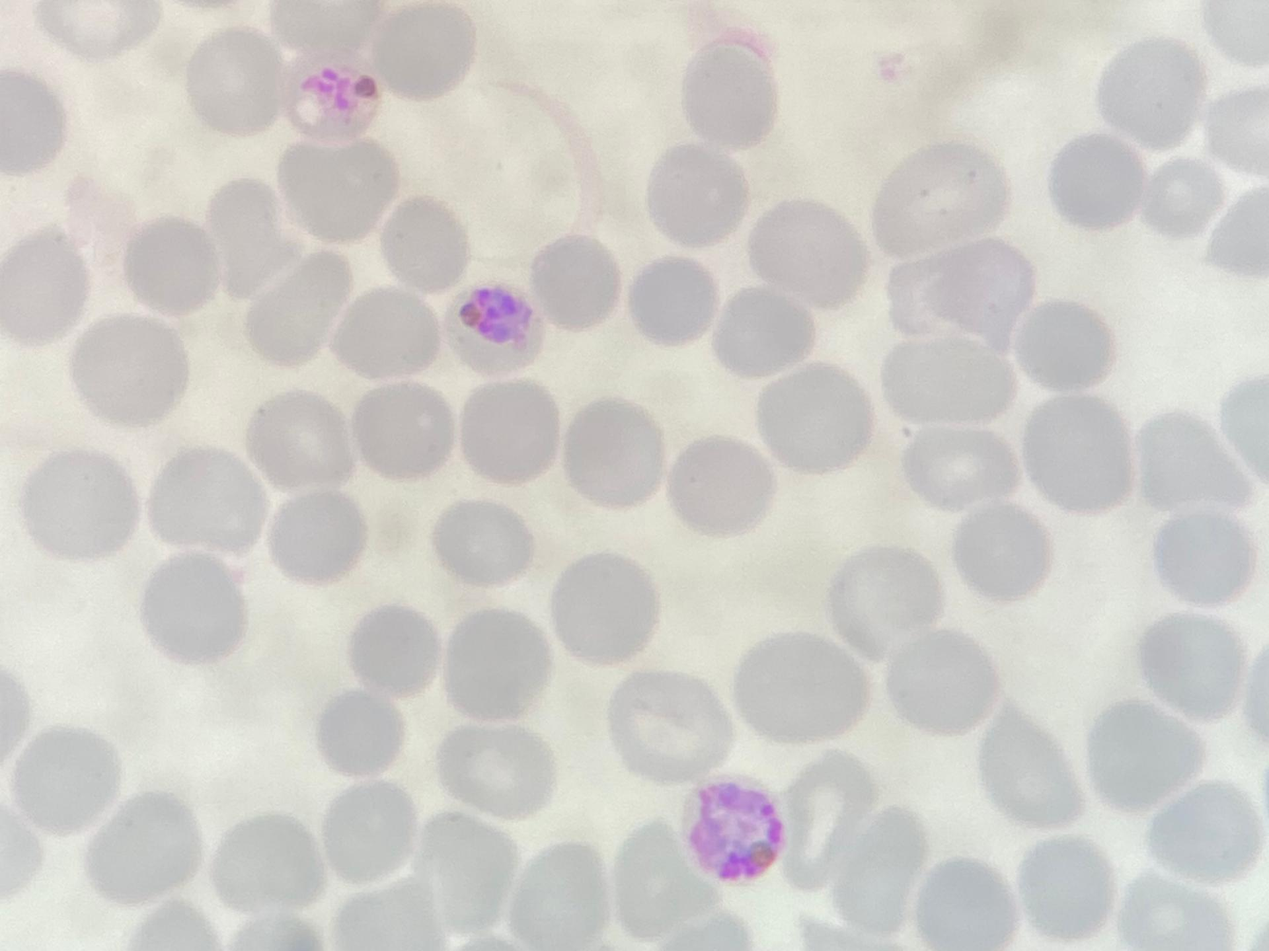Infected: (681, 774, 787, 881), (443, 278, 548, 376), (289, 55, 385, 145)
Uninfected: (734, 628, 869, 747), (874, 142, 1014, 250), (608, 668, 738, 780), (68, 311, 192, 428), (408, 808, 519, 935), (1021, 389, 1133, 514), (881, 327, 1025, 423), (975, 706, 1086, 830), (1092, 689, 1206, 809), (785, 745, 880, 889), (86, 792, 204, 906), (760, 359, 876, 473), (155, 441, 268, 558), (1130, 415, 1258, 518), (833, 542, 950, 654), (25, 448, 141, 559), (610, 817, 717, 937), (288, 137, 405, 246), (248, 250, 355, 369), (935, 233, 1040, 352), (1148, 780, 1265, 886), (1104, 37, 1209, 155), (1143, 613, 1256, 722), (13, 721, 120, 836), (140, 547, 247, 662), (563, 395, 668, 510), (436, 722, 564, 816), (839, 805, 930, 937), (557, 554, 662, 666), (894, 628, 1000, 738), (905, 422, 1028, 516), (183, 27, 288, 136), (442, 609, 549, 715), (458, 379, 561, 487), (216, 815, 326, 916), (210, 180, 305, 295), (248, 385, 355, 487), (514, 843, 615, 951), (651, 142, 754, 247), (673, 433, 775, 539), (375, 0, 478, 102), (332, 286, 445, 378), (0, 230, 87, 348), (910, 858, 1020, 951), (1016, 836, 1115, 939), (1160, 501, 1255, 608), (953, 504, 1055, 603), (715, 283, 820, 378), (686, 43, 778, 151), (269, 484, 366, 583), (326, 785, 421, 885), (121, 217, 220, 311), (1124, 871, 1240, 951), (1023, 298, 1117, 395), (355, 380, 449, 477), (535, 233, 623, 335), (1051, 134, 1145, 229), (430, 501, 537, 584), (382, 197, 475, 290), (350, 603, 444, 689), (322, 686, 409, 776), (634, 254, 716, 340), (1145, 161, 1227, 237)
